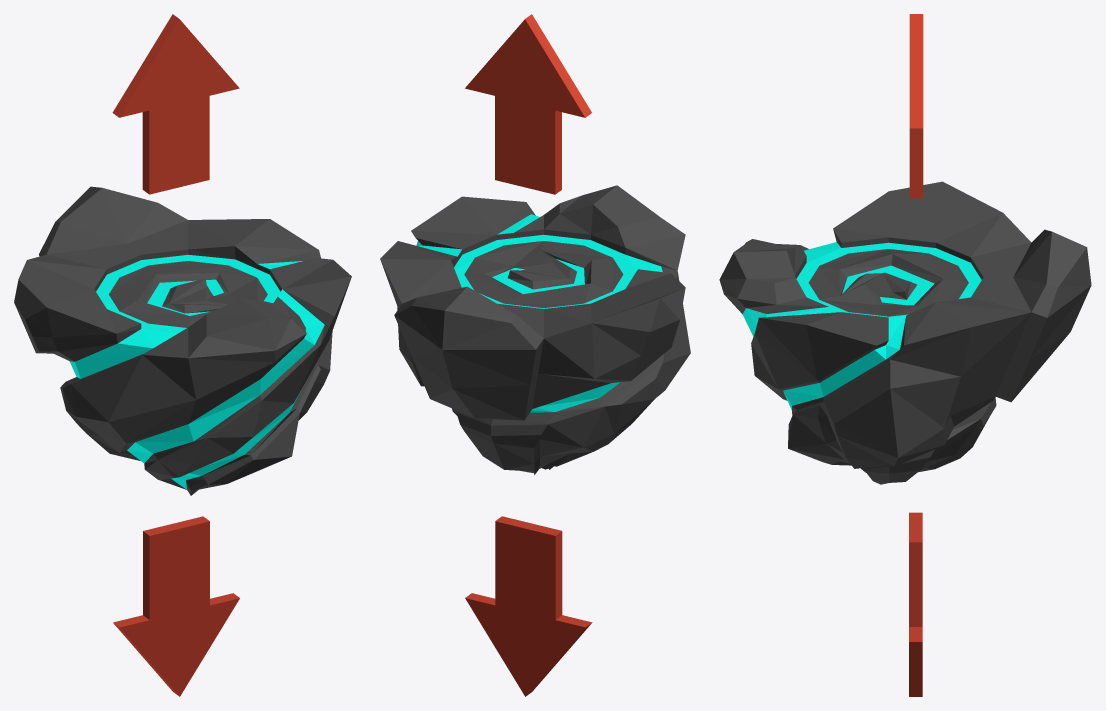
Rendered from Vertical_Platform_Fantasy.glb.
3 views of the same model, side by side, from view 1: azimuth 30°, elevation 25°; view 2: azimuth 150°, elevation 25°; view 3: azimuth 270°, elevation 25° (orthographic).
Visible parts, largest first — view 1: Fantasy_Platform_01, Plane.001, Plane; view 2: Fantasy_Platform_01, Plane, Plane.001; view 3: Fantasy_Platform_01, Plane.001, Plane.
Part boxes in pixels (left/top/right/bottom): Fantasy_Platform_01: left=14, top=186, right=351, bottom=495; Plane.001: left=112, top=14, right=239, bottom=194; Plane: left=113, top=516, right=239, bottom=696; Fantasy_Platform_01: left=380, top=185, right=690, bottom=474; Plane: left=465, top=516, right=592, bottom=696; Plane.001: left=465, top=14, right=591, bottom=194; Fantasy_Platform_01: left=719, top=181, right=1091, bottom=484; Plane.001: left=909, top=14, right=923, bottom=198; Plane: left=909, top=512, right=922, bottom=696.
Bounding box in the file's own units: 1.71 × 3.72 × 1.84.
Materials: 2 (2 with a texture image).
